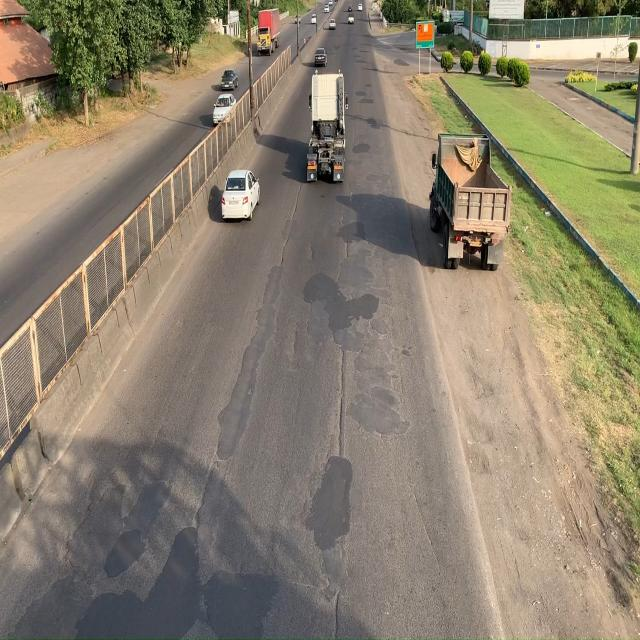Truck: (428, 115, 512, 282), (308, 71, 349, 197), (256, 6, 284, 59)
cars: (220, 159, 265, 236), (213, 89, 236, 127), (313, 37, 328, 71), (223, 66, 242, 92)
